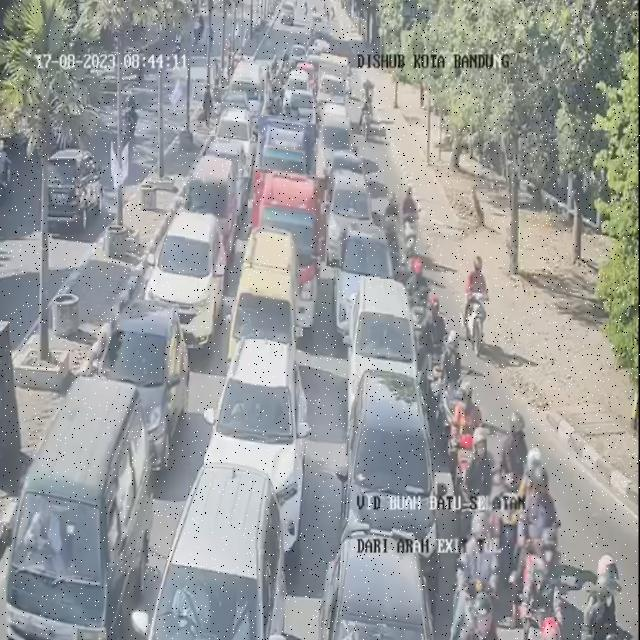cars: (6, 377, 152, 640), (151, 466, 284, 639), (204, 339, 310, 549), (337, 371, 437, 557), (99, 300, 187, 467), (320, 524, 433, 639), (144, 210, 226, 346), (345, 276, 418, 411), (228, 227, 297, 358), (328, 219, 394, 334), (185, 156, 237, 262), (326, 171, 372, 257), (206, 137, 248, 221), (259, 117, 313, 173), (216, 106, 255, 178), (317, 104, 352, 175)
motorcycle: (497, 414, 533, 582), (454, 515, 502, 640), (520, 530, 566, 640), (462, 435, 499, 564), (523, 460, 561, 584), (451, 385, 487, 513), (416, 299, 452, 423), (432, 333, 465, 451), (402, 257, 432, 365), (589, 550, 620, 640), (380, 187, 402, 279), (401, 184, 418, 263)
truck: (254, 170, 325, 327)
